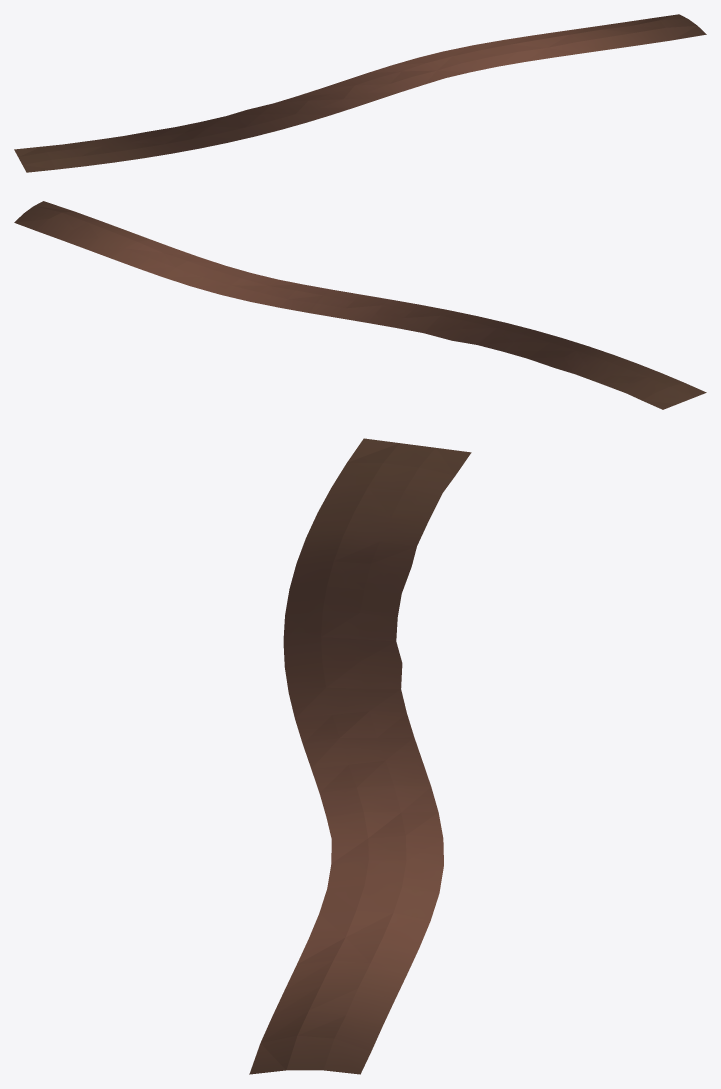
File: BarnPath_Mdl.fbx
The picture shows the model from 3 angles, top to bottom: view 1: azimuth 30°, elevation 25°; view 2: azimuth 150°, elevation 25°; view 3: azimuth 270°, elevation 25°; orthographic projection. The views are drawn at different scales.
Visible parts, largest first — view 1: BarnPath_Mdl; view 2: BarnPath_Mdl; view 3: BarnPath_Mdl.
Part boxes in pixels (x1,y1,x2,y2): BarnPath_Mdl: (14, 14, 706, 172); BarnPath_Mdl: (14, 201, 706, 409); BarnPath_Mdl: (249, 438, 471, 1074).
Size of the model in its own units: 26.68 by 0.213 by 3.94.
